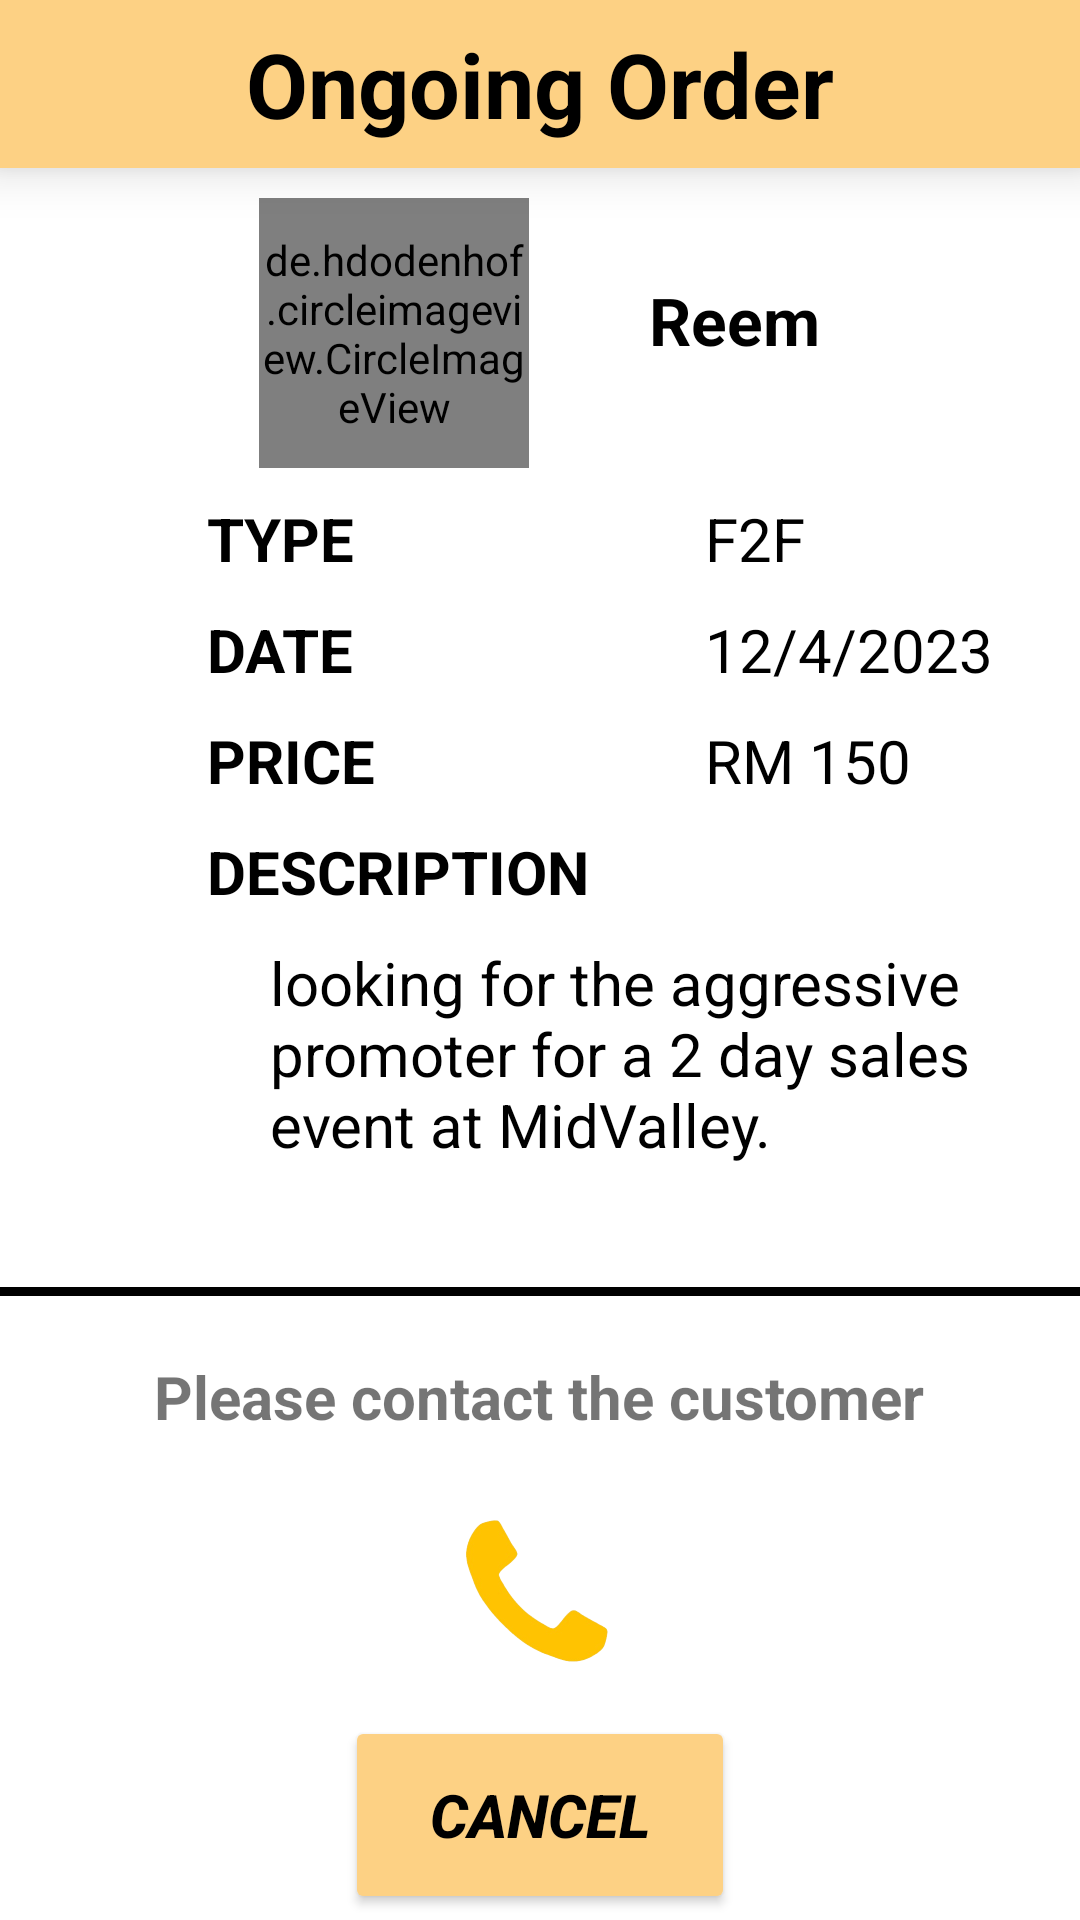

Named icons in this screenshot (1080x1920) and their centers, (x,y):
phone: (537,1591)
